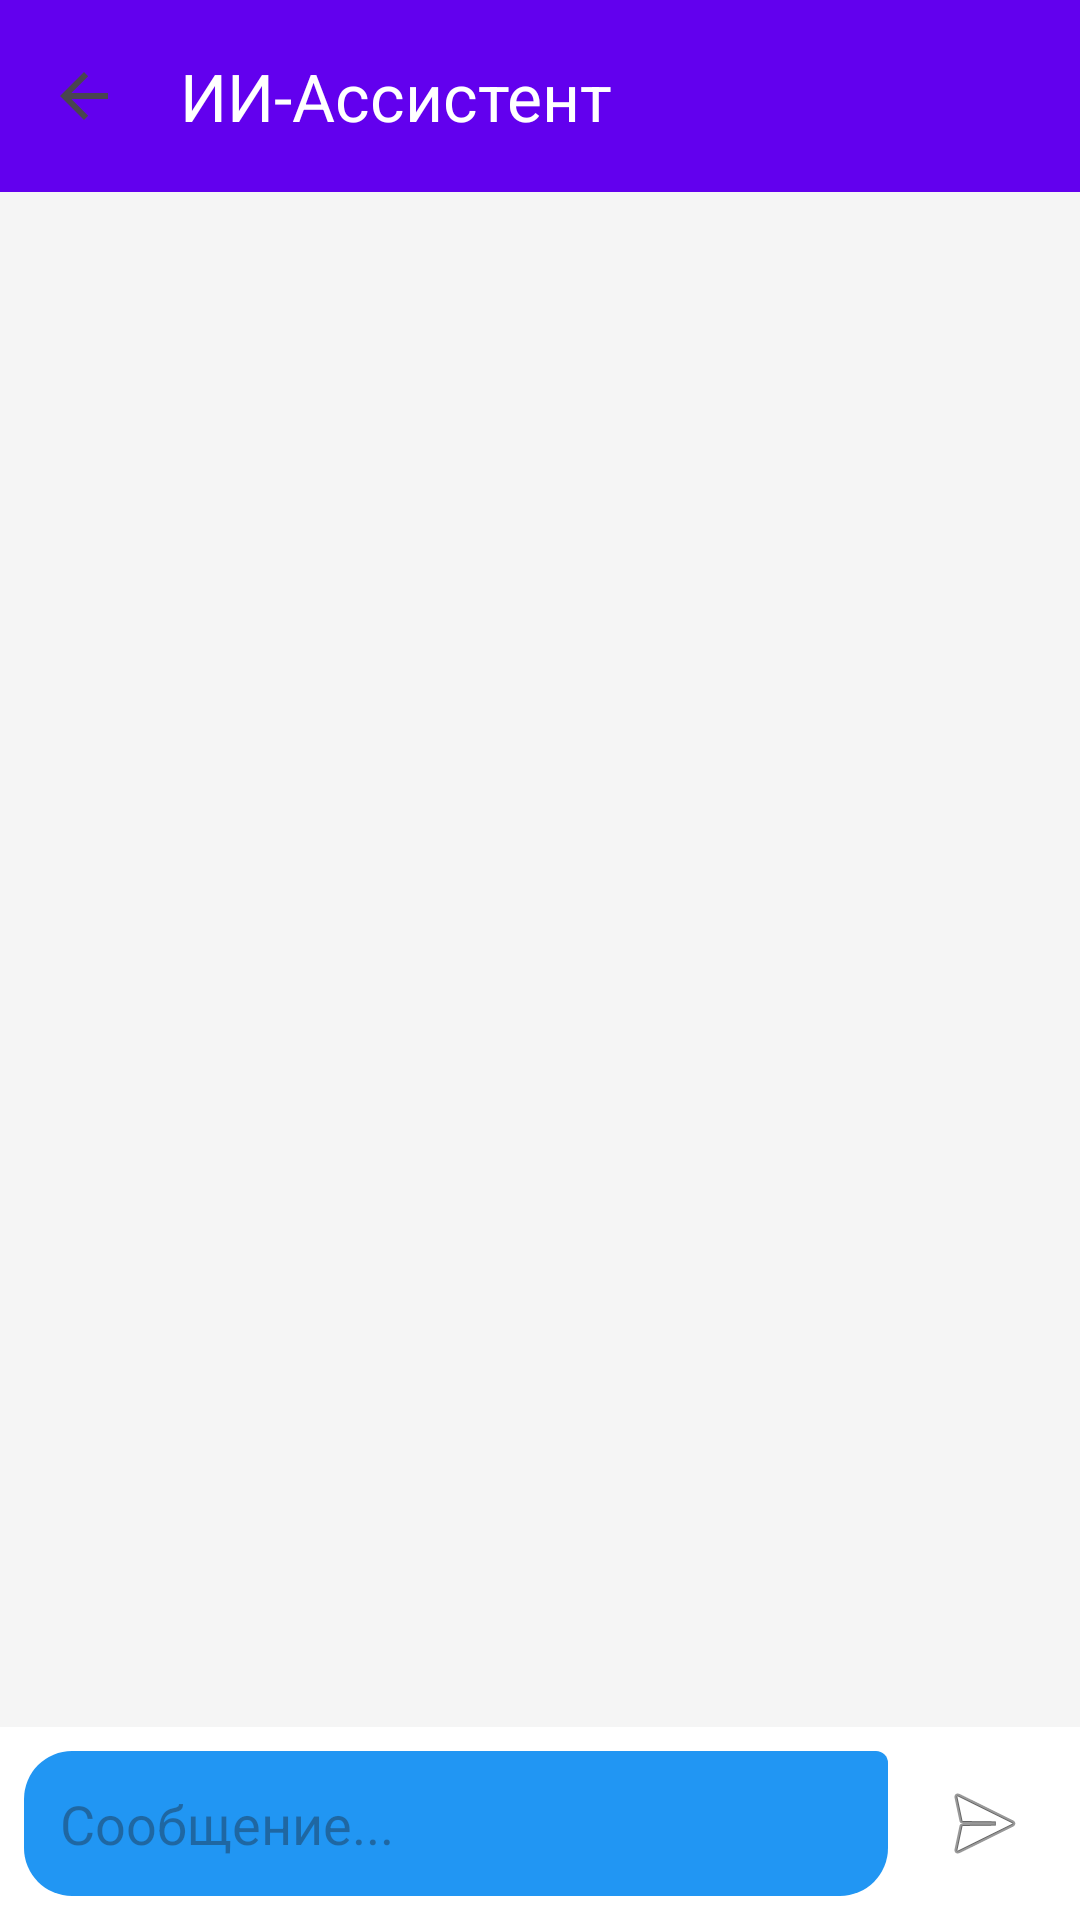

Screen size 1080px×1920px. Icon name, then its box in pixels as (x1, y1, x2, y2):
Отправить: (954, 1793, 1016, 1854)
